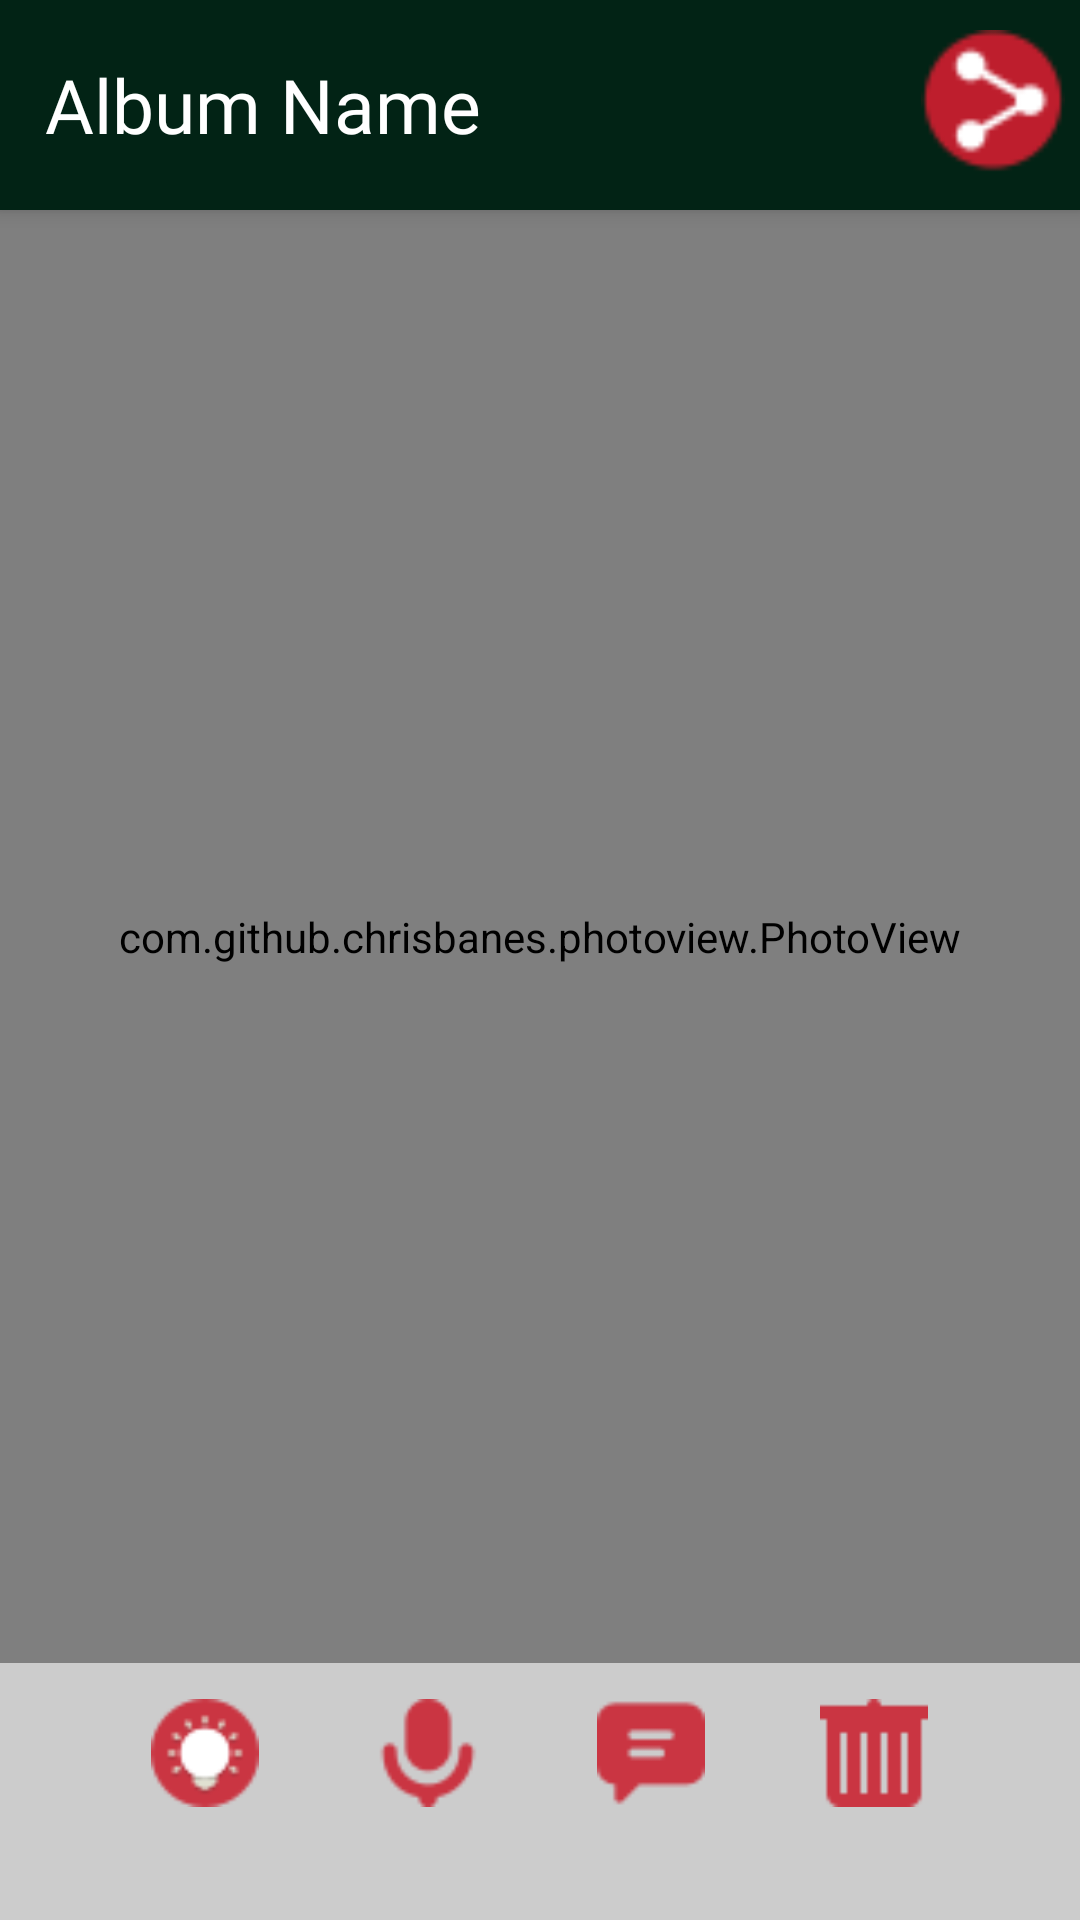

Icons on this 1080×1920 Android screen, each with its box as (x1, y1, x2, y2):
comment: (597, 1701, 705, 1804)
improve: (151, 1699, 259, 1807)
record voice: (381, 1699, 475, 1807)
remove picture: (820, 1699, 928, 1807)
share: (923, 30, 1063, 171)
